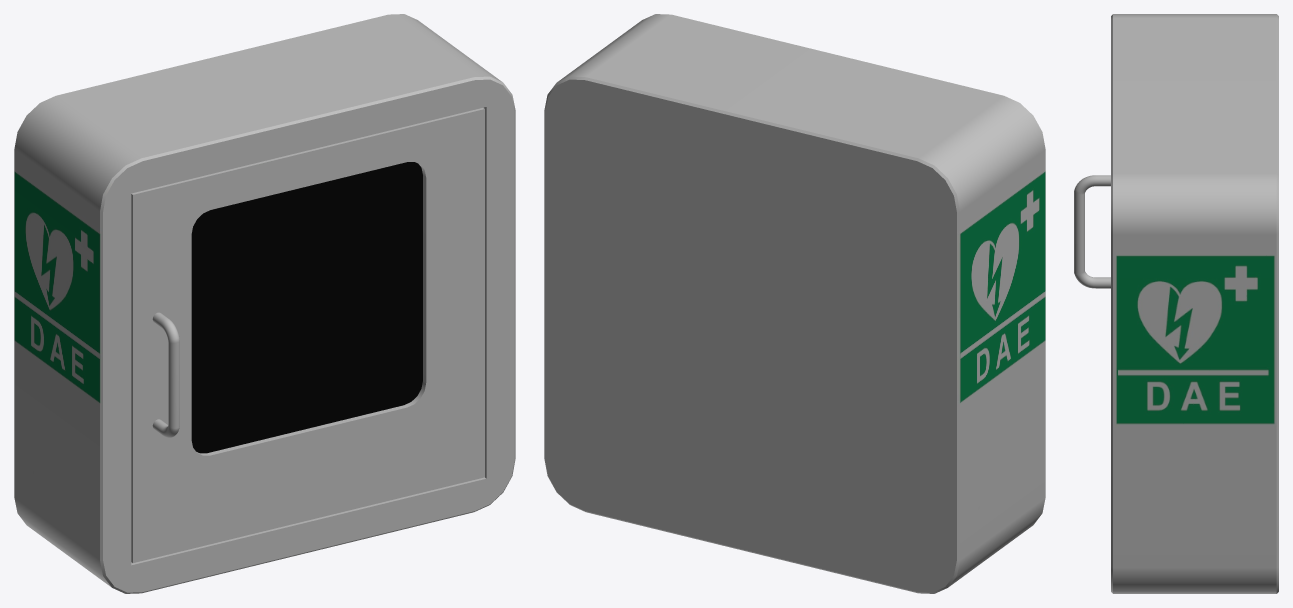
The picture shows the model from 3 angles, left to right: view 1: azimuth 30°, elevation 25°; view 2: azimuth 150°, elevation 25°; view 3: azimuth 270°, elevation 25°; orthographic projection. The views are drawn at different scales.
Visible parts, largest first — view 1: AED_DEF_0; view 2: AED_DEF_0; view 3: AED_DEF_0.
Boxes of the visible parts, box(x1,y1,x2,y2) form: AED_DEF_0: box(14, 14, 515, 593); AED_DEF_0: box(544, 14, 1045, 593); AED_DEF_0: box(1074, 14, 1278, 593).
Size of the model in its own units: 0.531 by 0.531 by 0.2369.
Materials: 3 (1 with a texture image).
